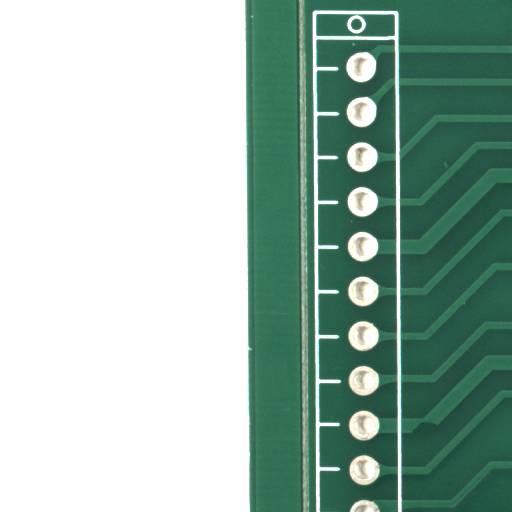Mouse_bite: (424, 428, 460, 446)
